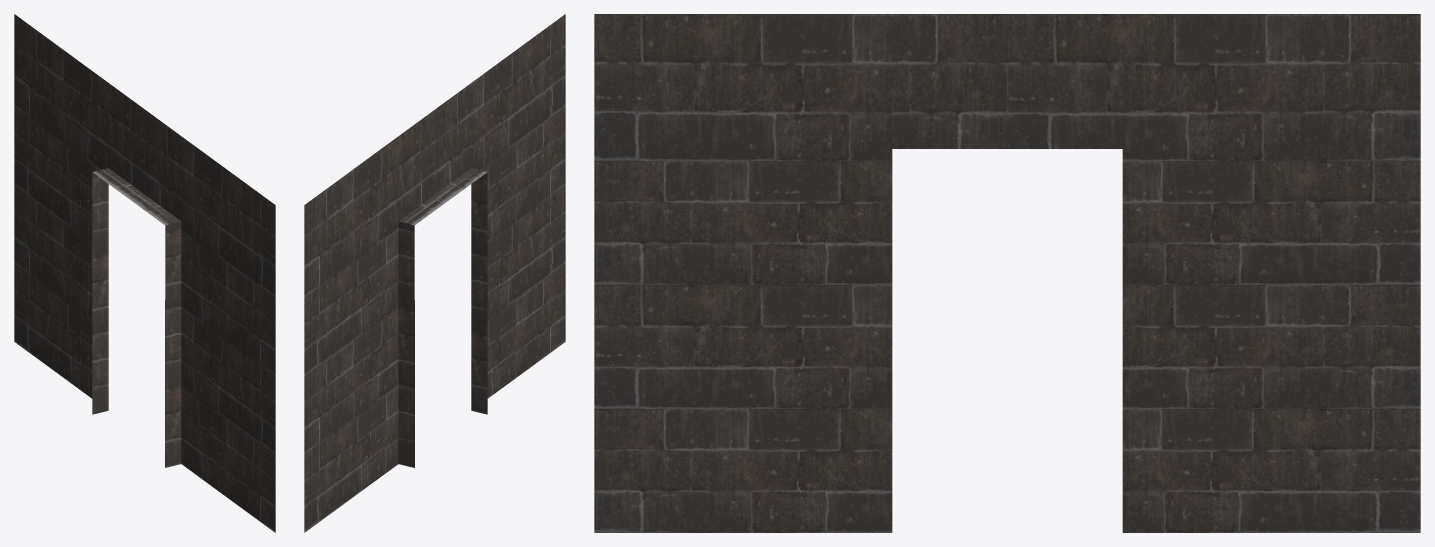
Rendered from Psychiatric_Ward_Basement_Upper_Wall_4m_Door_B.glb.
3 renders of one model, left to right at view 1: azimuth 30°, elevation 25°; view 2: azimuth 150°, elevation 25°; view 3: azimuth 270°, elevation 25°, orthographic. The views are drawn at different scales.
Parts seen in each view (by area): view 1: Psychiatric_Ward_Basement_Upper_Wall_4m_Door_B; view 2: Psychiatric_Ward_Basement_Upper_Wall_4m_Door_B; view 3: Psychiatric_Ward_Basement_Upper_Wall_4m_Door_B.
Part boxes in pixels (x1,y1,x2,y2): Psychiatric_Ward_Basement_Upper_Wall_4m_Door_B: [14, 14, 275, 532]; Psychiatric_Ward_Basement_Upper_Wall_4m_Door_B: [304, 14, 565, 532]; Psychiatric_Ward_Basement_Upper_Wall_4m_Door_B: [594, 14, 1420, 532].
Size of the model in its own units: 0.1437 by 2.77 by 4.
Materials: 1 (1 with a texture image).
